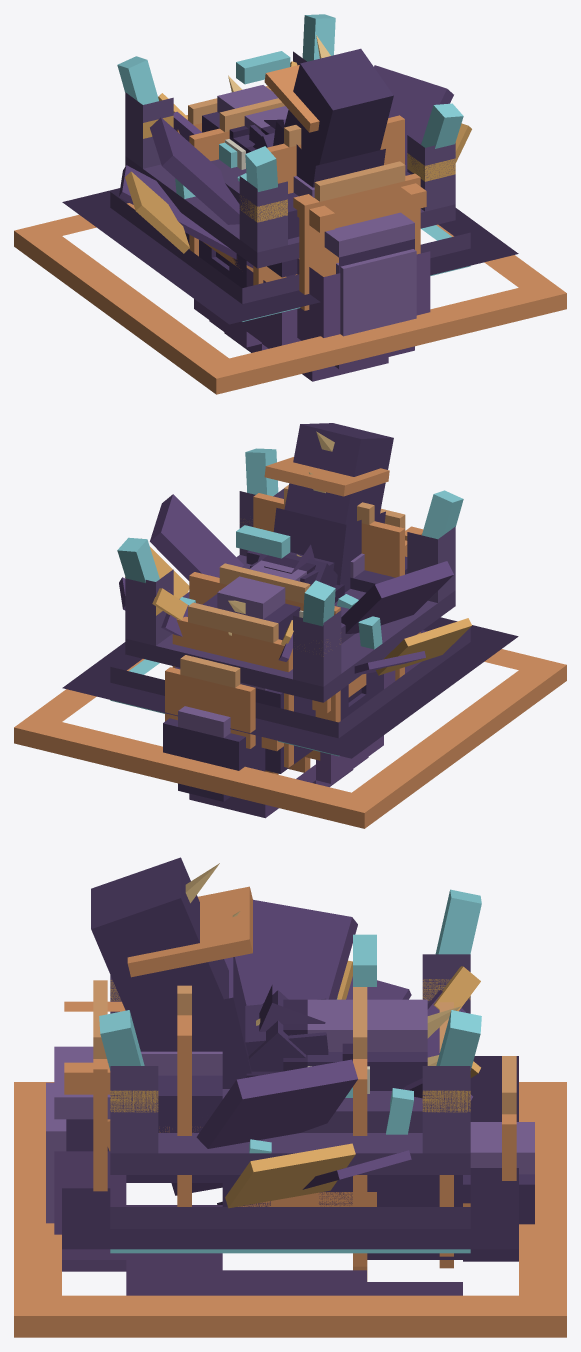
File: Trainer11.glb
3 renders of one model, top to bottom at view 1: azimuth 30°, elevation 25°; view 2: azimuth 150°, elevation 25°; view 3: azimuth 270°, elevation 25°, orthographic. The views are drawn at different scales.
Parts seen in each view (by area): view 1: Stand_Glow, Body, Stand, Body_Glow, Wings, Head, Wings_Glow, Head_Glow; view 2: Stand, Stand_Glow, Body_Glow, Body, Wings, Head, Wings_Glow, Head_Glow, Orbit, T1; view 3: Stand_Glow, Body, Stand, Body_Glow, Wings, Head, Wings_Glow, T1, T2, Orbit, Head_Glow, Fin.
Part boxes in pixels (<box>): Stand_Glow: <box>14,14,566,394</box>; Body: <box>185,35,430,381</box>; Stand: <box>62,51,518,324</box>; Body_Glow: <box>177,51,426,310</box>; Wings: <box>119,65,453,277</box>; Head: <box>173,75,288,169</box>; Wings_Glow: <box>125,123,471,253</box>; Head_Glow: <box>158,61,297,168</box>; Stand: <box>62,488,518,758</box>; Stand_Glow: <box>14,448,566,828</box>; Body_Glow: <box>165,457,423,774</box>; Body: <box>163,423,426,818</box>; Wings: <box>119,494,453,674</box>; Head: <box>161,555,331,661</box>; Wings_Glow: <box>125,547,471,675</box>; Head_Glow: <box>152,588,293,645</box>; Orbit: <box>180,597,382,649</box>; T1: <box>258,553,337,586</box>; Stand_Glow: <box>14,889,566,1337</box>; Body: <box>46,857,534,1295</box>; Stand: <box>62,954,518,1249</box>; Body_Glow: <box>64,886,516,1281</box>; Wings: <box>171,899,411,1204</box>; Head: <box>283,990,472,1100</box>; Wings_Glow: <box>225,960,355,1208</box>; T1: <box>248,990,305,1071</box>; T2: <box>245,998,328,1055</box>; Orbit: <box>249,997,413,1153</box>; Head_Glow: <box>107,966,480,1151</box>; Fin: <box>259,985,325,1031</box>.
Bounding box in the file's own units: 9.2 × 8.24 × 9.2.
